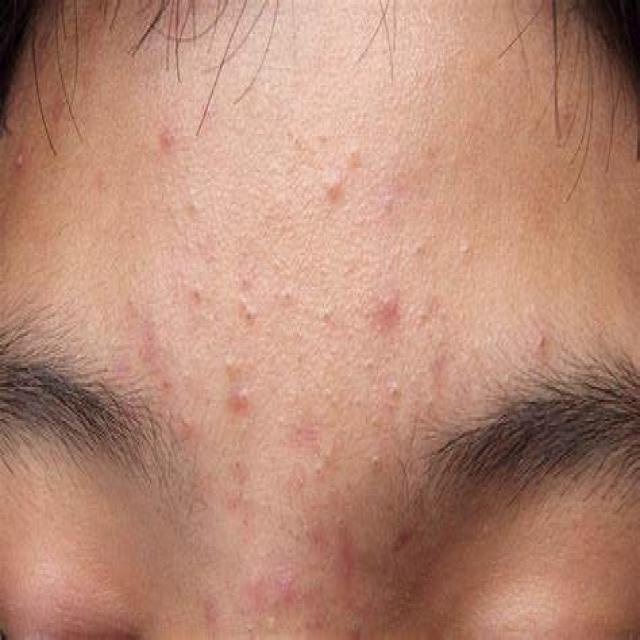fungal: (15, 93, 569, 640)
